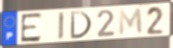2: (145, 6, 165, 36), (96, 9, 116, 38)
D: (69, 10, 94, 40)
E: (20, 11, 43, 44)
I: (57, 11, 66, 42)
M: (118, 7, 144, 37)
